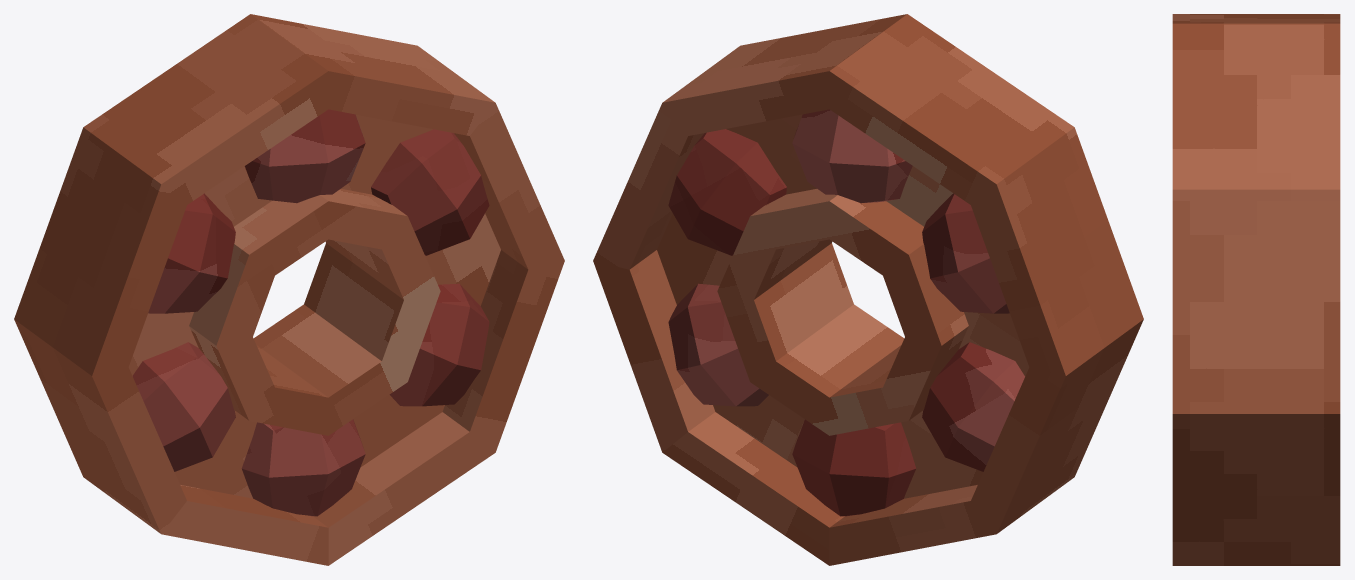
The model's file is bearing.fbx.
The picture shows the model from 3 angles, left to right: view 1: azimuth 30°, elevation 25°; view 2: azimuth 150°, elevation 25°; view 3: azimuth 270°, elevation 25°; orthographic projection. The views are drawn at different scales.
Parts seen in each view (by area): view 1: подшипник; view 2: подшипник; view 3: подшипник.
Part boxes in pixels (box(x1,y1,x2,y2)): подшипник: box(14, 14, 564, 565); подшипник: box(593, 14, 1143, 565); подшипник: box(1172, 14, 1340, 565).
Size of the model in its own units: 7 by 7 by 2.
